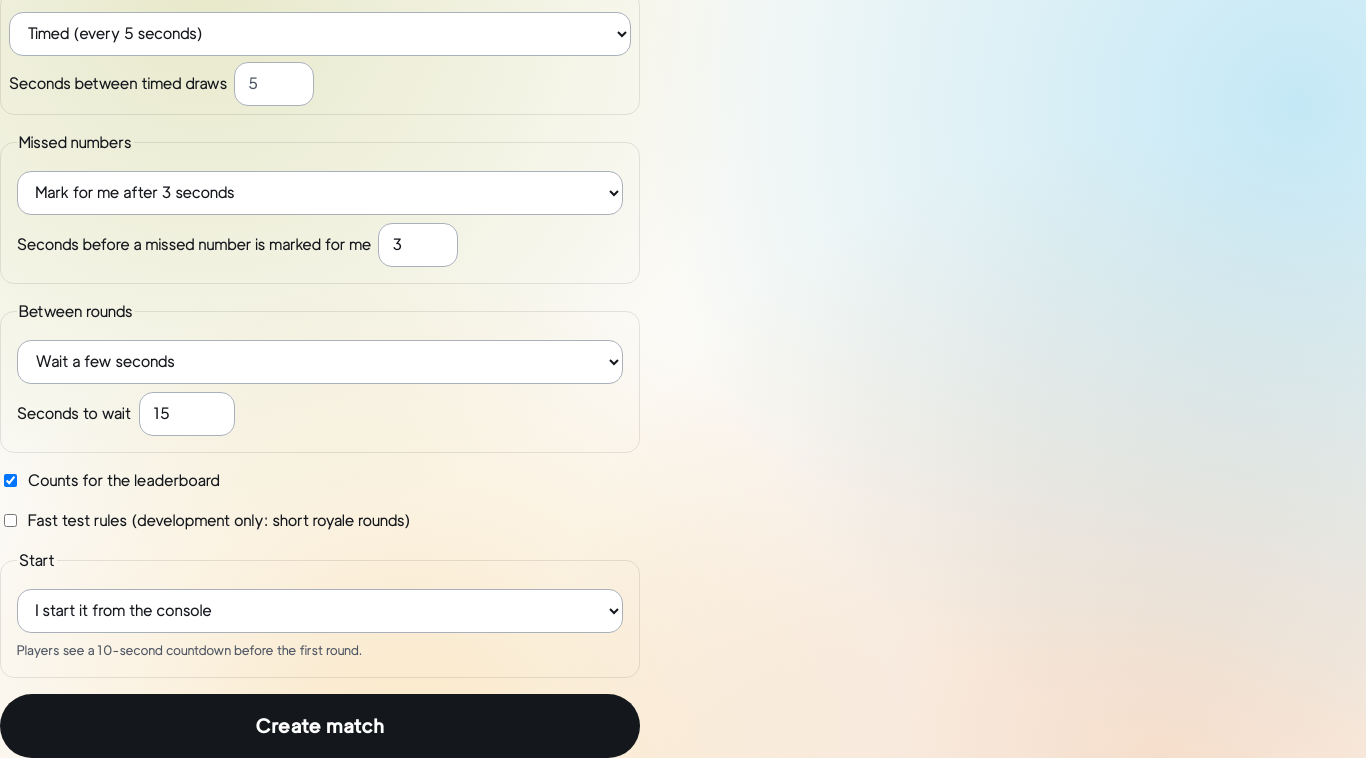
Test: the create form (D16) › sends a set time with the automatic start off unless ticked
The width and height of the screenshot is (1366, 758).
(page scrolled)
Select "At a set time" in the dropdown with test id "create-start-rule" at (320, 611), box [17,589,623,633]
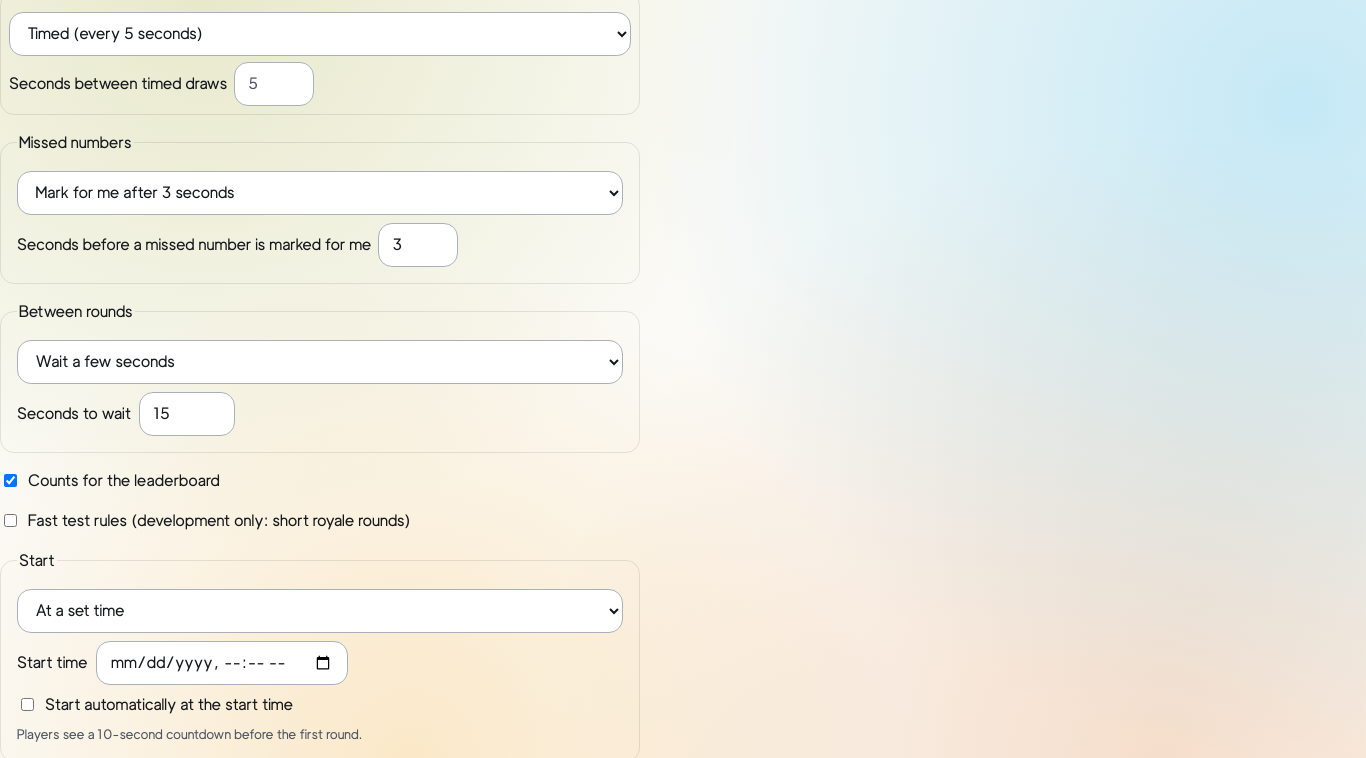
Expected: the checkbox with test id "create-start-auto" is not checked, [21,698,34,712]
